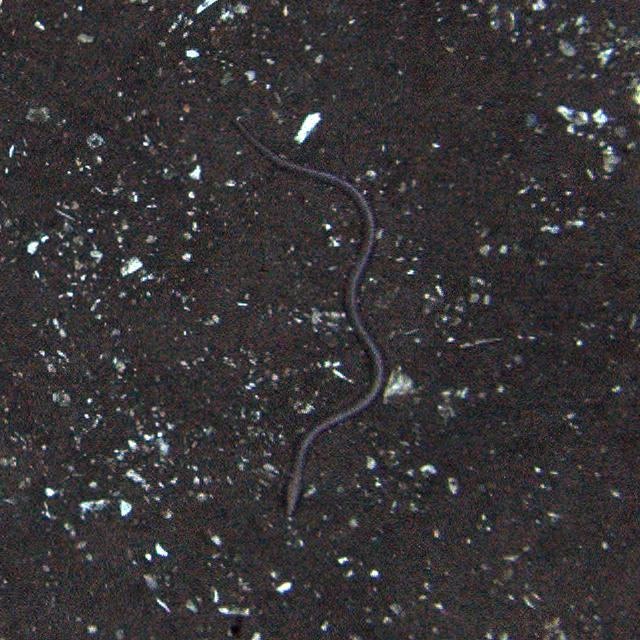eel: (236, 110, 390, 519)
